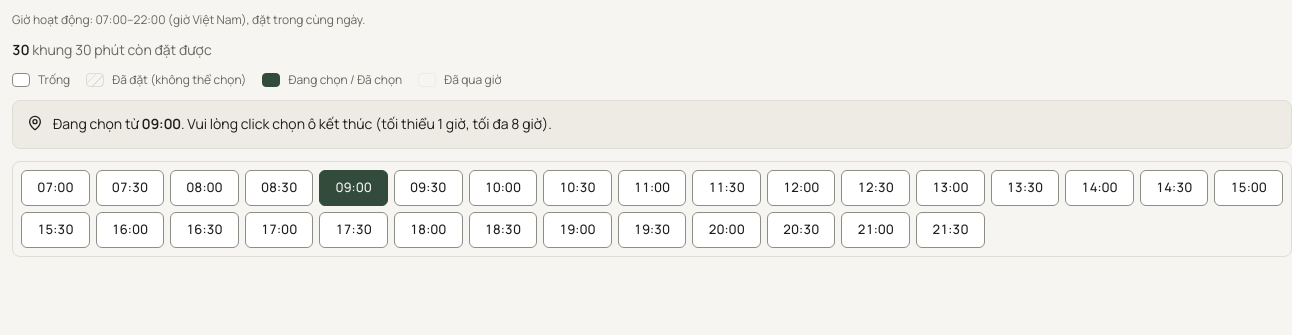
TimeGrid component › AC2: Click chọn slot cập nhật start/end time › rejects selection exceeding 8 hours
Click the button with test id "time-slot-17:30".
click(354, 230)  # box [319,212,388,248]
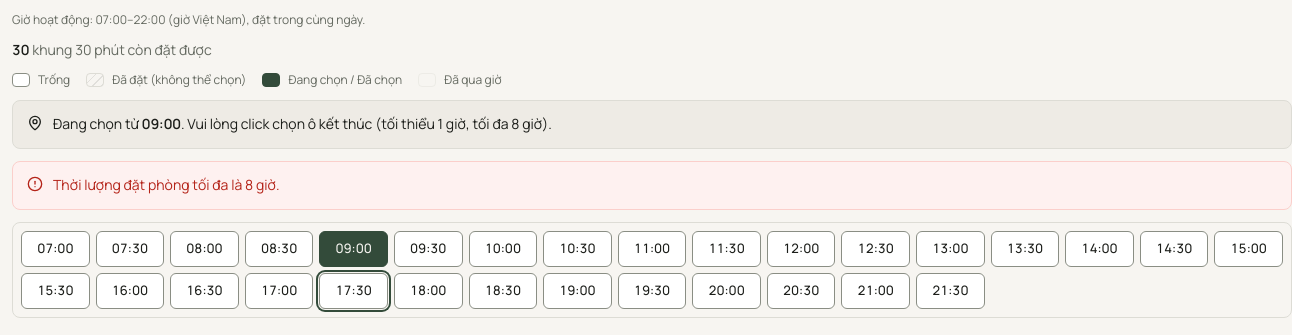
Now the message with test id "time-grid-error" shows "Thời lượng đặt phòng tối đa là 8 giờ", box [53,175,280,194]
